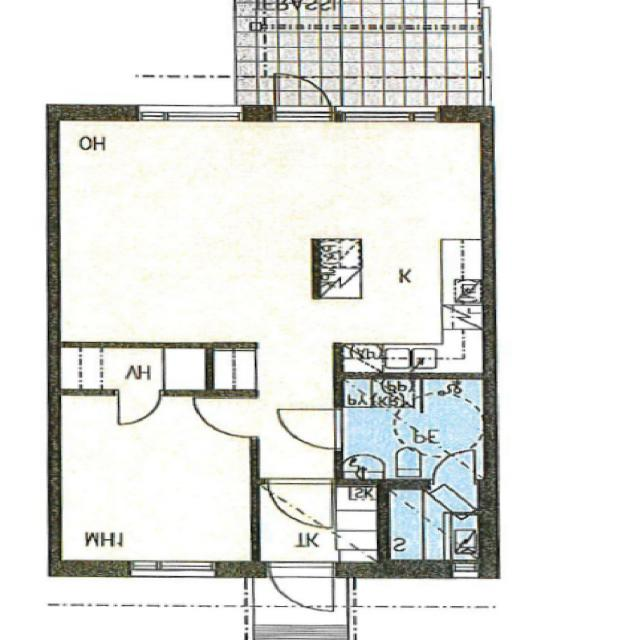door: (271, 560, 335, 620), (276, 66, 332, 122), (269, 478, 332, 526), (280, 410, 343, 448), (197, 398, 258, 436), (119, 390, 160, 424), (434, 451, 474, 484)
